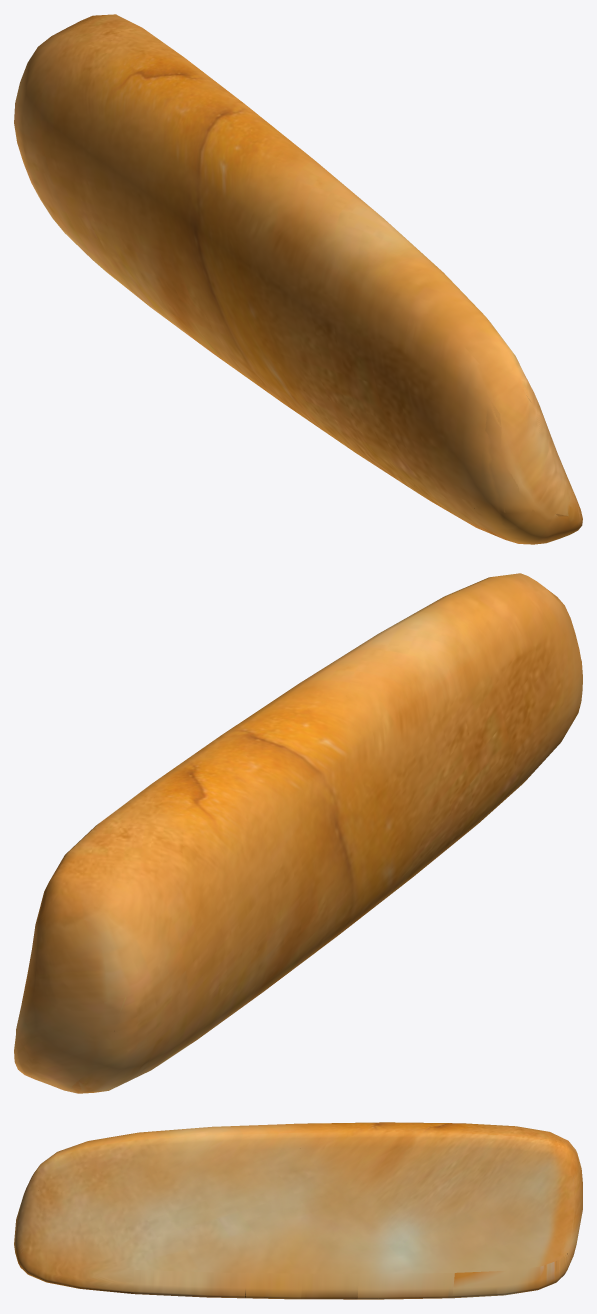
File: Pan2.obj
3 renders of one model, top to bottom at view 1: azimuth 30°, elevation 25°; view 2: azimuth 150°, elevation 25°; view 3: azimuth 270°, elevation 25°, orthographic. The views are drawn at different scales.
Parts seen in each view (by area): view 1: Pan2; view 2: Pan2; view 3: Pan2.
Part boxes in pixels (<box>): Pan2: <box>14,14,582,544</box>; Pan2: <box>14,573,582,1093</box>; Pan2: <box>14,1122,582,1299</box>.
Bounding box in the file's own units: 0.2655 × 0.4351 × 1.44.
